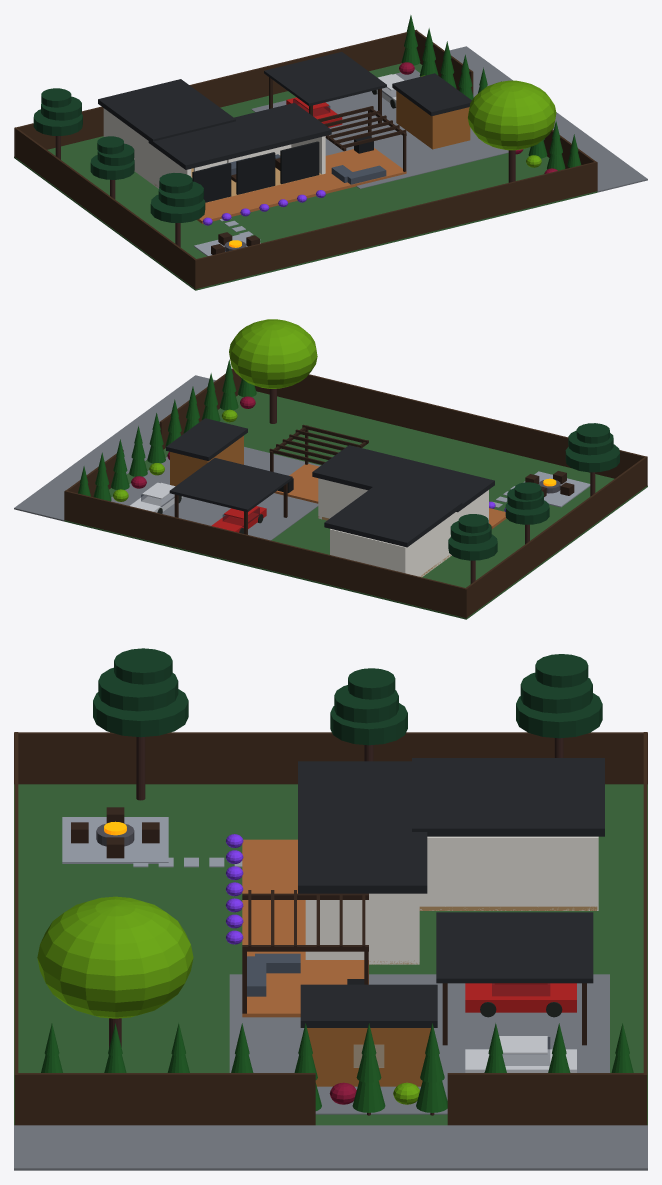
The model's file is generated_villa.glb.
The picture shows the model from 3 angles, top to bottom: view 1: azimuth 30°, elevation 25°; view 2: azimuth 150°, elevation 25°; view 3: azimuth 270°, elevation 25°; orthographic projection. The views are drawn at different scales.
Parts seen in each view (by area): view 1: Site_Main_Lawn, Fence_South, Roof_Villa_Day, Fence_West, Paving_Driveway_Main, Fence_North, Roof_Villa_Night, Tree_SE_Crown, Carport_Roof_Canopy, Street_Chernomorskaya, Terrace_South_DPK, Workshop_Shed_Walls (+20 smaller); view 2: Site_Main_Lawn, Fence_North, Fence_South, Fence_West, Roof_Villa_Day, Roof_Villa_Night, Tree_SE_Crown, Street_Chernomorskaya, Paving_Driveway_Main, Carport_Roof_Canopy, Wall_Villa_North, Workshop_Shed_Roof (+19 smaller); view 3: Site_Main_Lawn, Street_Chernomorskaya, Fence_West, Roof_Villa_Day, Fence_East_Bottom, Roof_Villa_Night, Tree_SE_Crown, Paving_Driveway_Main, Wall_Villa_East_Night, Carport_Roof_Canopy, Fence_East_Top, Wall_Villa_East_Day (+26 smaller).
Boxes of the visible parts, box(x1,y1,x2,y2) form: Site_Main_Lawn: box(14, 63, 597, 290); Fence_South: box(194, 161, 597, 289); Roof_Villa_Day: box(148, 103, 331, 169); Fence_West: box(15, 127, 197, 289); Paving_Driveway_Main: box(251, 69, 508, 188); Fence_North: box(14, 29, 417, 157); Roof_Villa_Night: box(98, 79, 235, 141); Tree_SE_Crown: box(468, 80, 556, 150); Carport_Roof_Canopy: box(264, 52, 386, 106); Street_Chernomorskaya: box(449, 46, 647, 192); Terrace_South_DPK: box(197, 173, 346, 223); Workshop_Shed_Walls: box(396, 91, 470, 149); Site_Main_Lawn: box(64, 391, 647, 619); Fence_North: box(64, 490, 467, 618); Fence_South: box(255, 374, 647, 486); Fence_West: box(464, 456, 646, 618); Roof_Villa_Day: box(312, 445, 494, 512); Roof_Villa_Night: box(324, 482, 462, 547); Tree_SE_Crown: box(229, 319, 317, 388); Street_Chernomorskaya: box(14, 375, 215, 521); Paving_Driveway_Main: box(111, 447, 320, 540); Carport_Roof_Canopy: box(169, 458, 292, 512); Wall_Villa_North: box(330, 529, 407, 573); Workshop_Shed_Roof: box(166, 418, 247, 461); Site_Main_Lawn: box(14, 784, 647, 1125); Street_Chernomorskaya: box(14, 1125, 647, 1170); Fence_West: box(14, 732, 647, 784); Roof_Villa_Day: box(298, 761, 427, 893); Fence_East_Bottom: box(18, 1073, 315, 1125); Roof_Villa_Night: box(412, 758, 604, 836); Tree_SE_Crown: box(37, 896, 193, 1018); Paving_Driveway_Main: box(229, 974, 609, 1114); Wall_Villa_East_Night: box(419, 836, 596, 910); Carport_Roof_Canopy: box(436, 912, 593, 983); Fence_East_Top: box(447, 1073, 644, 1125); Wall_Villa_East_Day: box(305, 893, 419, 964).
Bounding box in the file's own units: 36.39 × 7.54 × 25.
